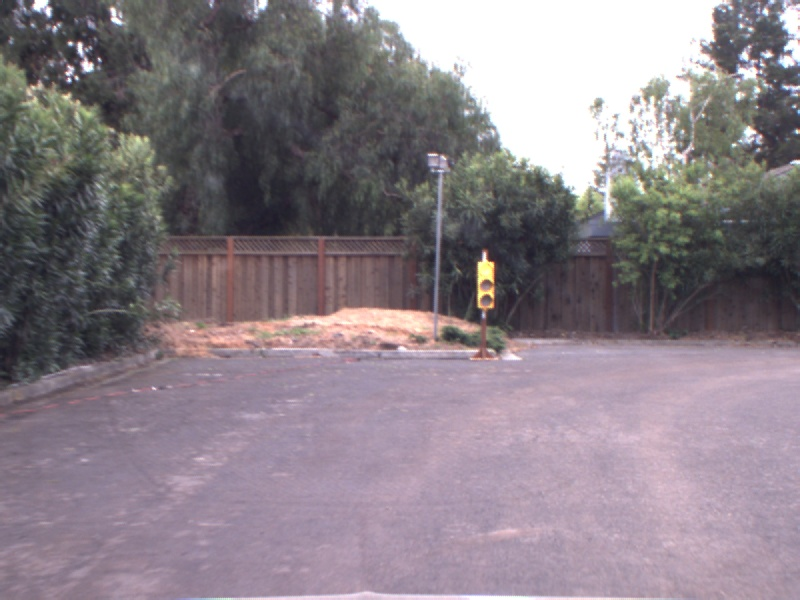red: (474, 255, 498, 311)
